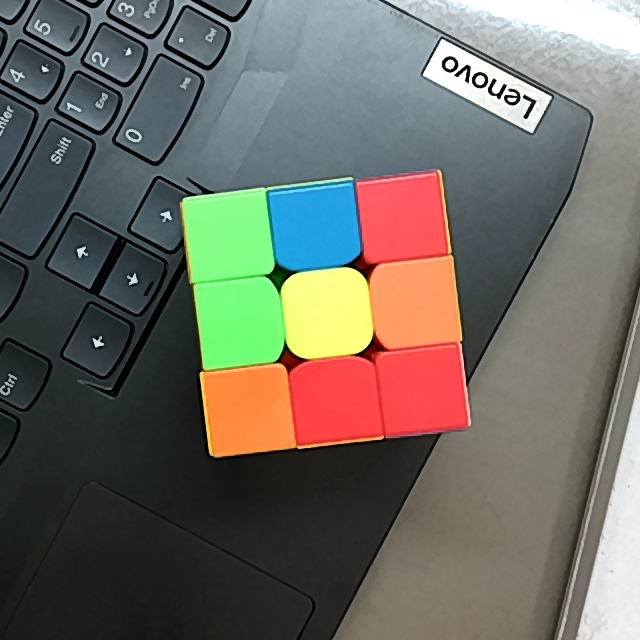tile: (381, 267, 452, 338), (213, 375, 285, 444), (204, 286, 274, 356), (389, 355, 459, 425), (195, 202, 264, 273), (302, 366, 373, 435), (366, 185, 438, 253), (282, 195, 352, 261), (294, 279, 361, 346)
